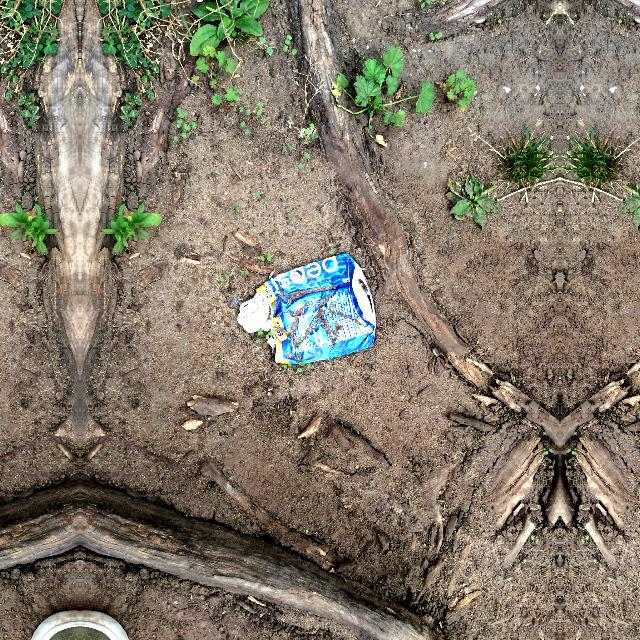Metal: (234, 248, 380, 369)
